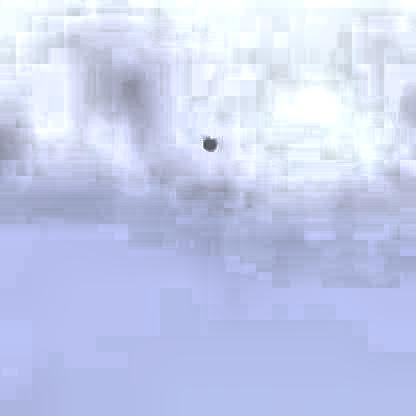golfball: (199, 131, 215, 149)
